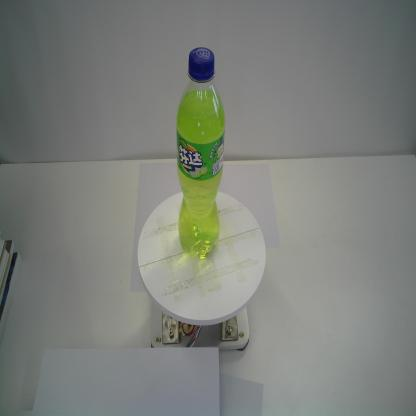Drink: (174, 45, 226, 262)
